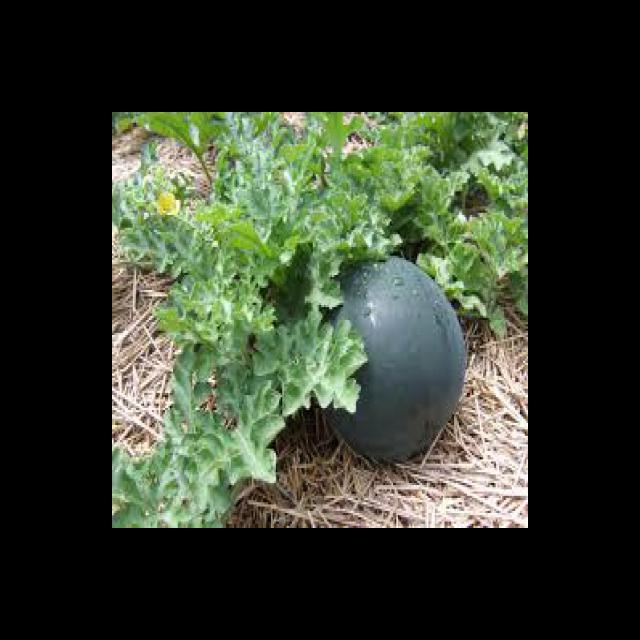watermelon: (318, 255, 467, 463)
